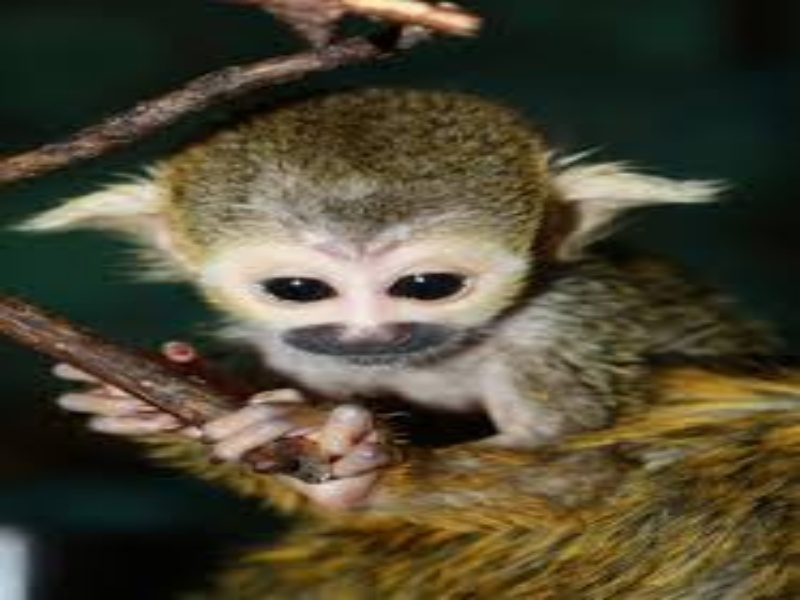monkey: (107, 28, 613, 534)
